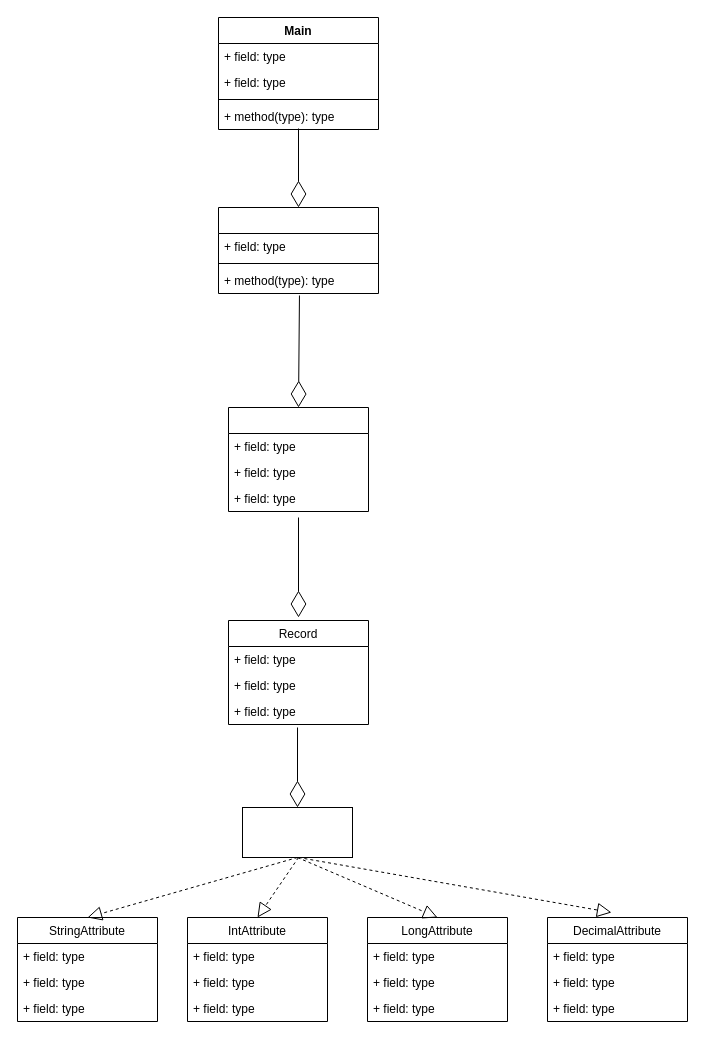
The diagram is 705 pixels wide and 1042 high, and some of its shapes have lost their labels. Here are the shapes that lost their labels. From the top down, the box of each, then its label:
(218, 206, 378, 294): Database
(228, 406, 368, 512): Table
(242, 806, 352, 858): «interface» Attribute<V>
